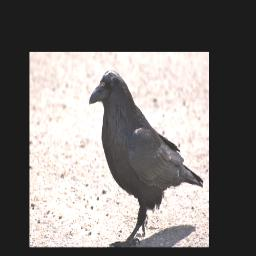Crow: (88, 69, 205, 247)
